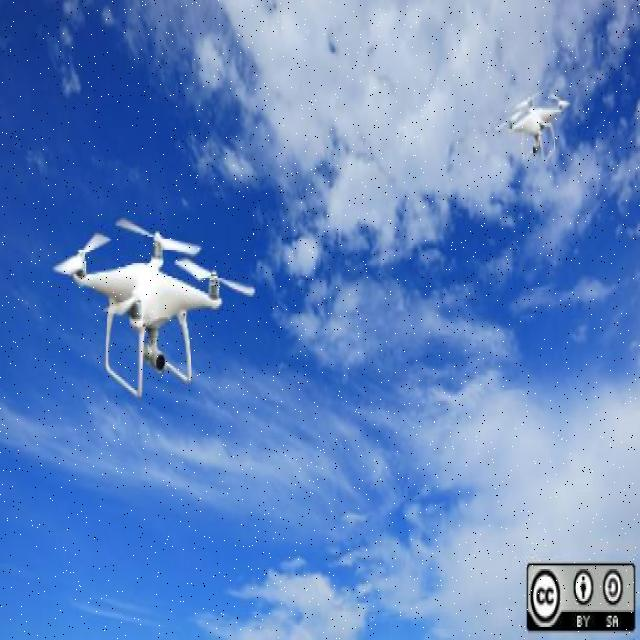UAV: (68, 222, 225, 392), (504, 93, 568, 166)
